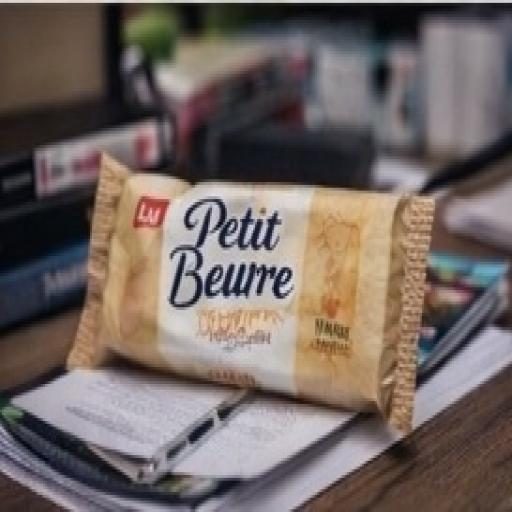petit-beurre: (52, 108, 458, 452)
